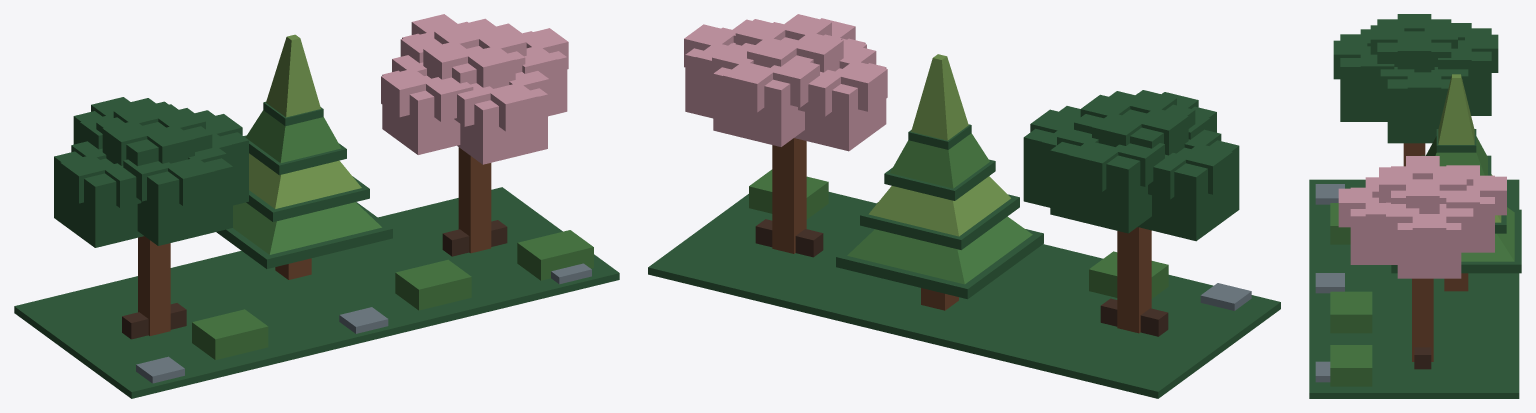
File: Blockland_BlockGrove_Showcase.glb
3 renders of one model, left to right at view 1: azimuth 30°, elevation 25°; view 2: azimuth 150°, elevation 25°; view 3: azimuth 270°, elevation 25°, orthographic. The views are drawn at different scales.
Parts seen in each view (by area): view 1: Blockland_BlockGrove_Showcase; view 2: Blockland_BlockGrove_Showcase; view 3: Blockland_BlockGrove_Showcase.
Boxes of the visible parts, x1,y1,x2,y2 form: Blockland_BlockGrove_Showcase: [14, 14, 619, 398]; Blockland_BlockGrove_Showcase: [648, 14, 1280, 398]; Blockland_BlockGrove_Showcase: [1309, 14, 1521, 398].
Bounding box in the file's own units: 12.24 × 5.68 × 5.05.
